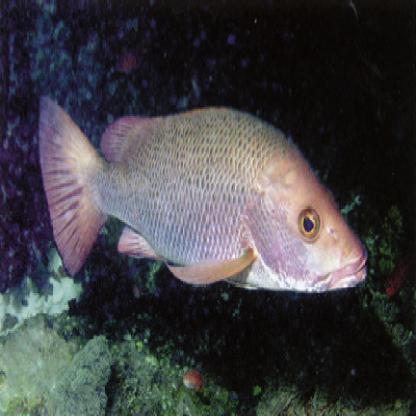Lutjanidae -Snappers-: (35, 83, 376, 303)
